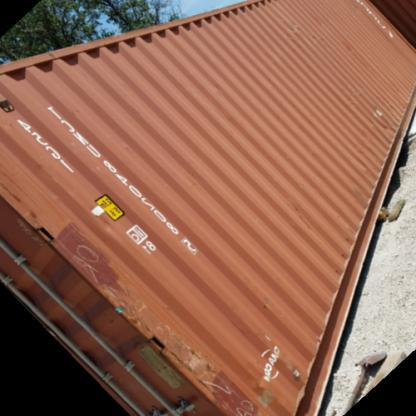Damage: (147, 325, 258, 415), (50, 224, 124, 297), (366, 93, 394, 134), (284, 19, 317, 43)
